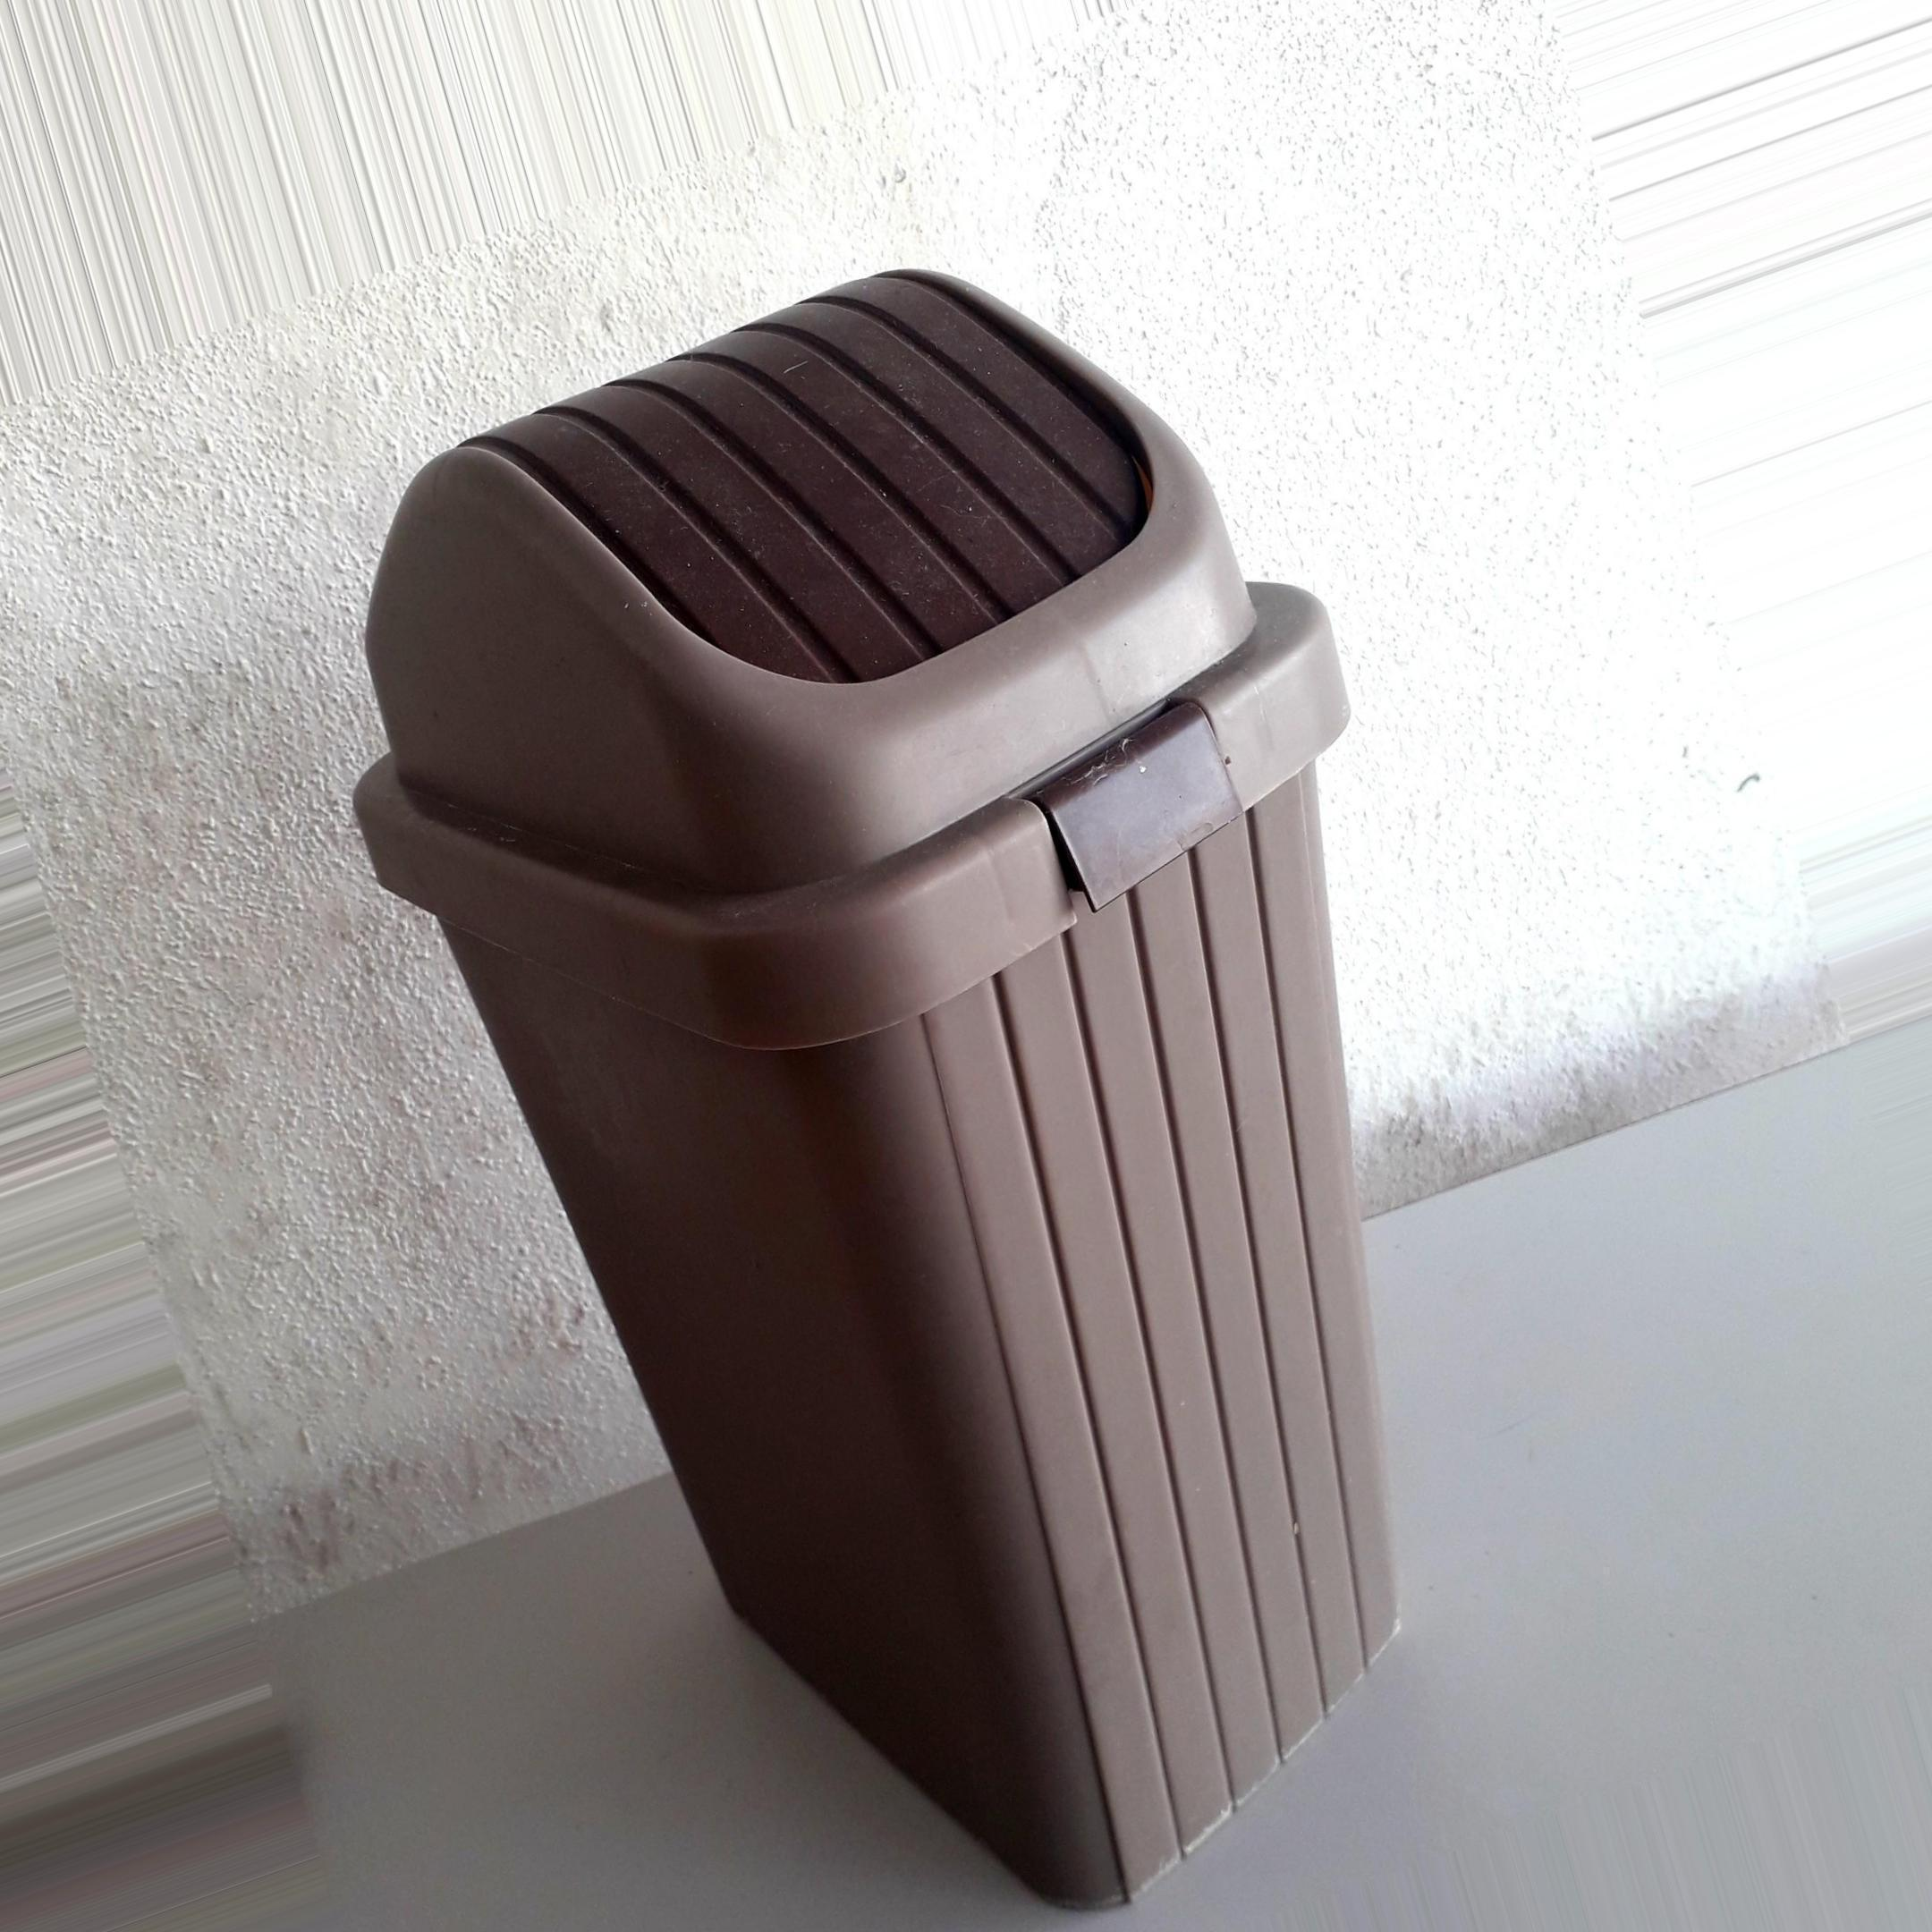Bote de Basura: (336, 216, 1391, 1890)
